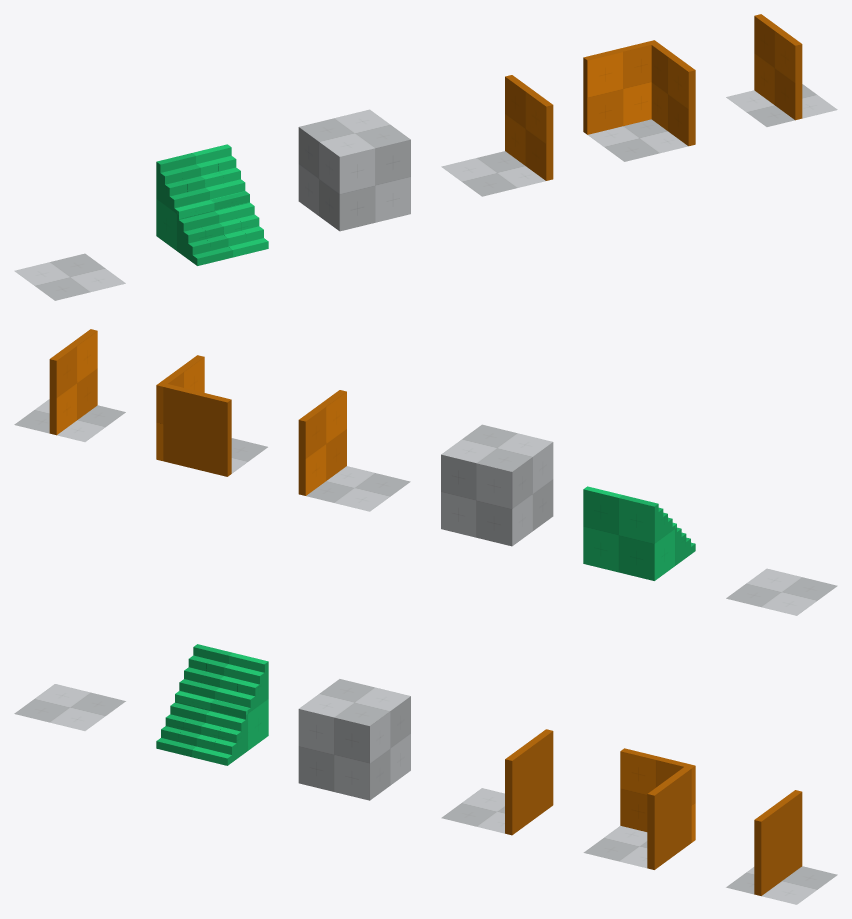
File: prototype_tileset.glb
The picture shows the model from 3 angles, top to bottom: view 1: azimuth 30°, elevation 25°; view 2: azimuth 150°, elevation 25°; view 3: azimuth 330°, elevation 25°; orthographic projection.
Visible parts, largest first — view 1: flat_cube-col, flat_cube-col.004, flat_cube-col.001, flat_cube-col.003, flat_cube-col.005, flat_cube-col.002; view 2: flat_cube-col, flat_cube-col.004, flat_cube-col.001, flat_cube-col.003, flat_cube-col.005, flat_cube-col.002; view 3: flat_cube-col, flat_cube-col.001, flat_cube-col.004, flat_cube-col.005, flat_cube-col.003, flat_cube-col.002.
Boxes of the visible parts, bbox=[...] form: flat_cube-col: bbox=[298, 109, 410, 231]; flat_cube-col.004: bbox=[583, 40, 695, 161]; flat_cube-col.001: bbox=[156, 144, 268, 265]; flat_cube-col.003: bbox=[441, 75, 553, 196]; flat_cube-col.005: bbox=[726, 14, 837, 126]; flat_cube-col.002: bbox=[14, 253, 125, 300]; flat_cube-col: bbox=[441, 424, 553, 546]; flat_cube-col.004: bbox=[156, 355, 267, 476]; flat_cube-col.001: bbox=[583, 486, 695, 580]; flat_cube-col.003: bbox=[298, 390, 410, 511]; flat_cube-col.005: bbox=[14, 329, 125, 441]; flat_cube-col.002: bbox=[726, 568, 837, 615]; flat_cube-col: bbox=[298, 679, 410, 800]; flat_cube-col.001: bbox=[156, 644, 268, 765]; flat_cube-col.004: bbox=[583, 748, 695, 869]; flat_cube-col.005: bbox=[726, 790, 837, 904]; flat_cube-col.003: bbox=[441, 729, 553, 835]; flat_cube-col.002: bbox=[14, 684, 125, 730].
Size of the model in its own units: 11 by 1 by 1.
3 materials, 3 textured.
